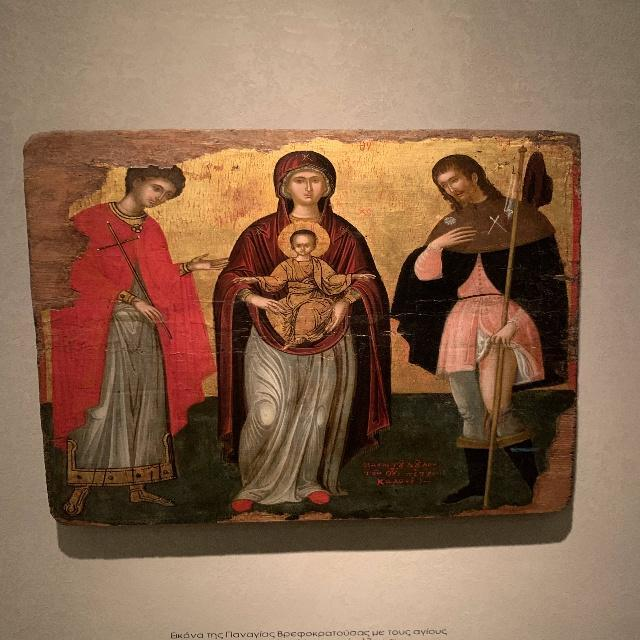aura: (279, 220, 330, 259)
christ_kid: (235, 221, 377, 352)
cross: (95, 220, 178, 355)
mary: (215, 135, 379, 516)
saint: (394, 151, 550, 500), (58, 159, 202, 506)
scepter: (473, 142, 516, 507)
